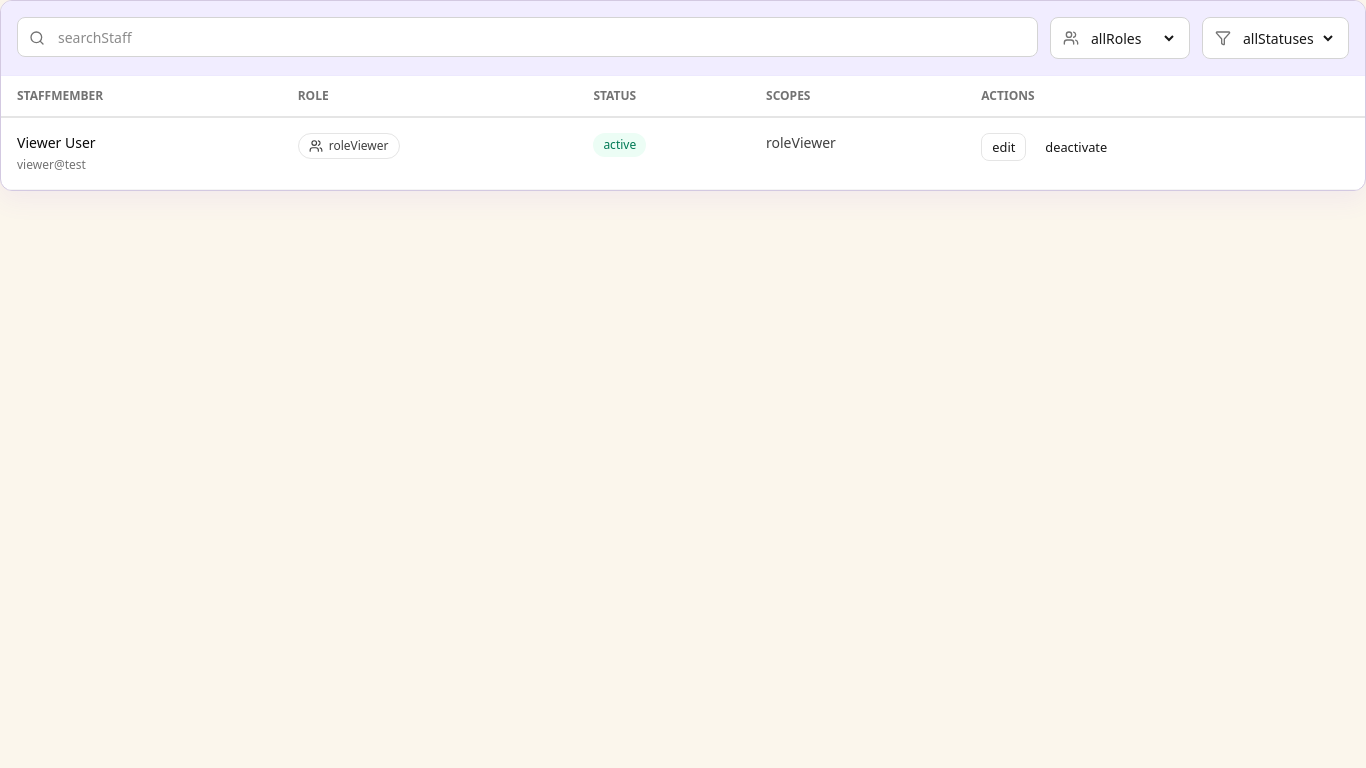
Scenario: admin staff role permissions › hides scope controls while editing a viewer and shows them for an editor
The width and height of the screenshot is (1366, 768).
Click the button "edit": (1004, 147) top-left (981, 133), bottom-right (1026, 161)
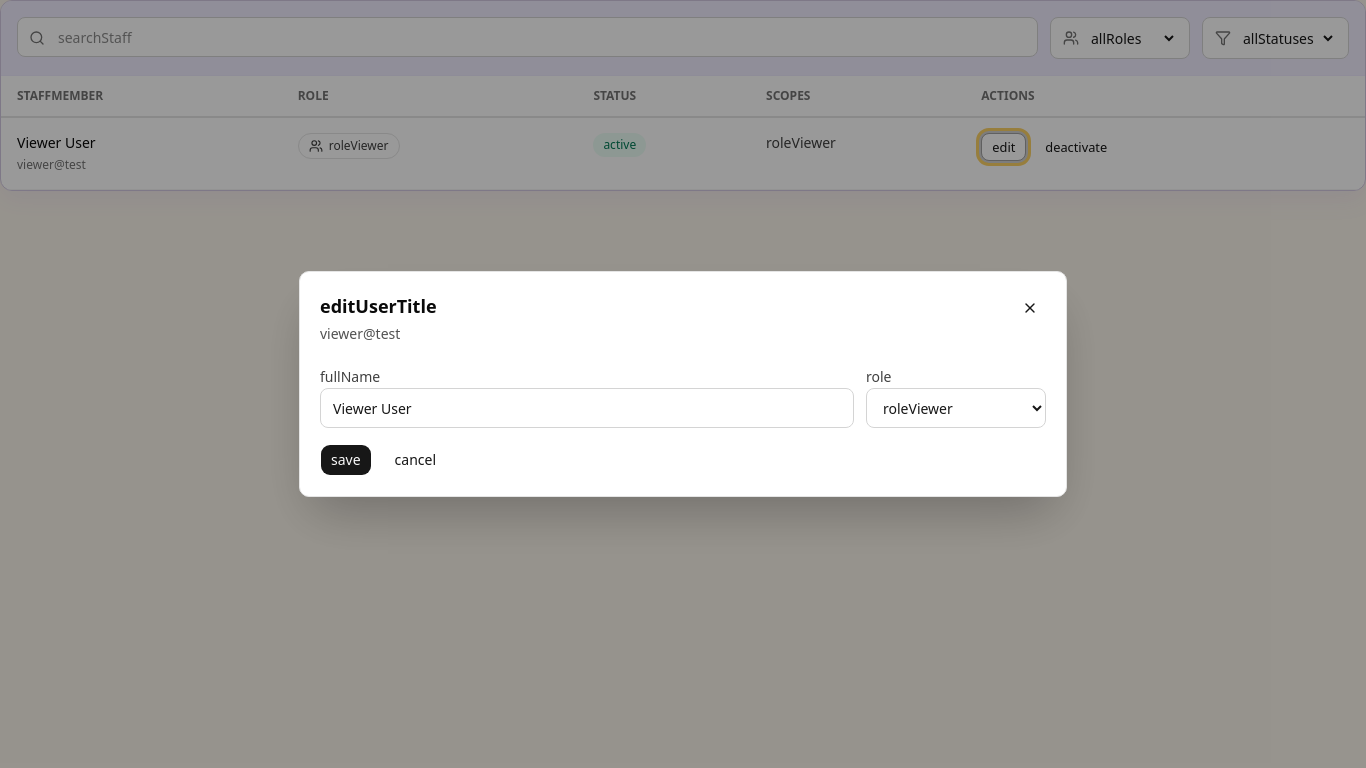
Expected: the text "gradeScopes" is not shown
Expected: the text "eventTypeScopes" is not shown
Select "roleEditor" in the dropdown labelled "role": (956, 408) top-left (866, 388), bottom-right (1046, 428)
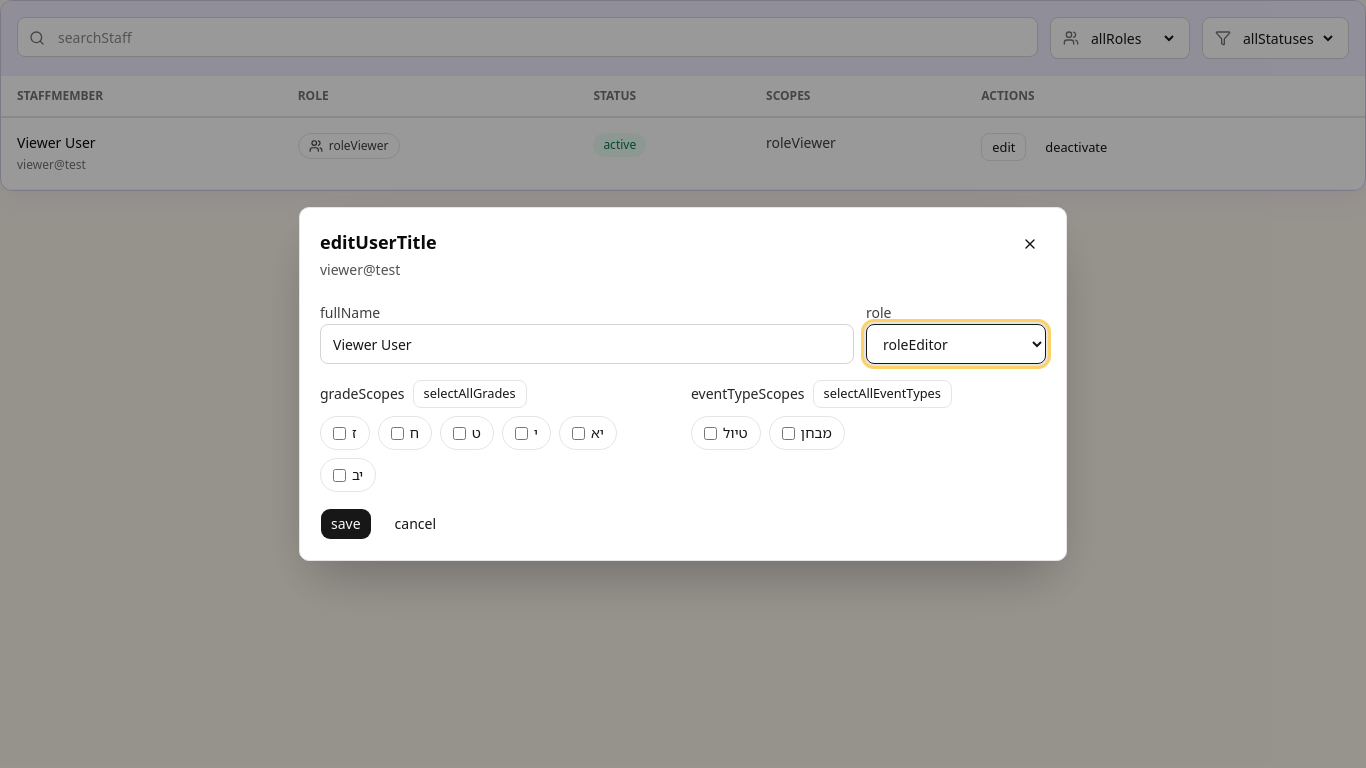
Now the text "gradeScopes" is shown, box top-left (320, 384), bottom-right (405, 404)
Now the text "eventTypeScopes" is shown, box top-left (691, 384), bottom-right (805, 404)
Select "roleViewer" in the dropdown labelled "role": (956, 344) top-left (866, 324), bottom-right (1046, 364)
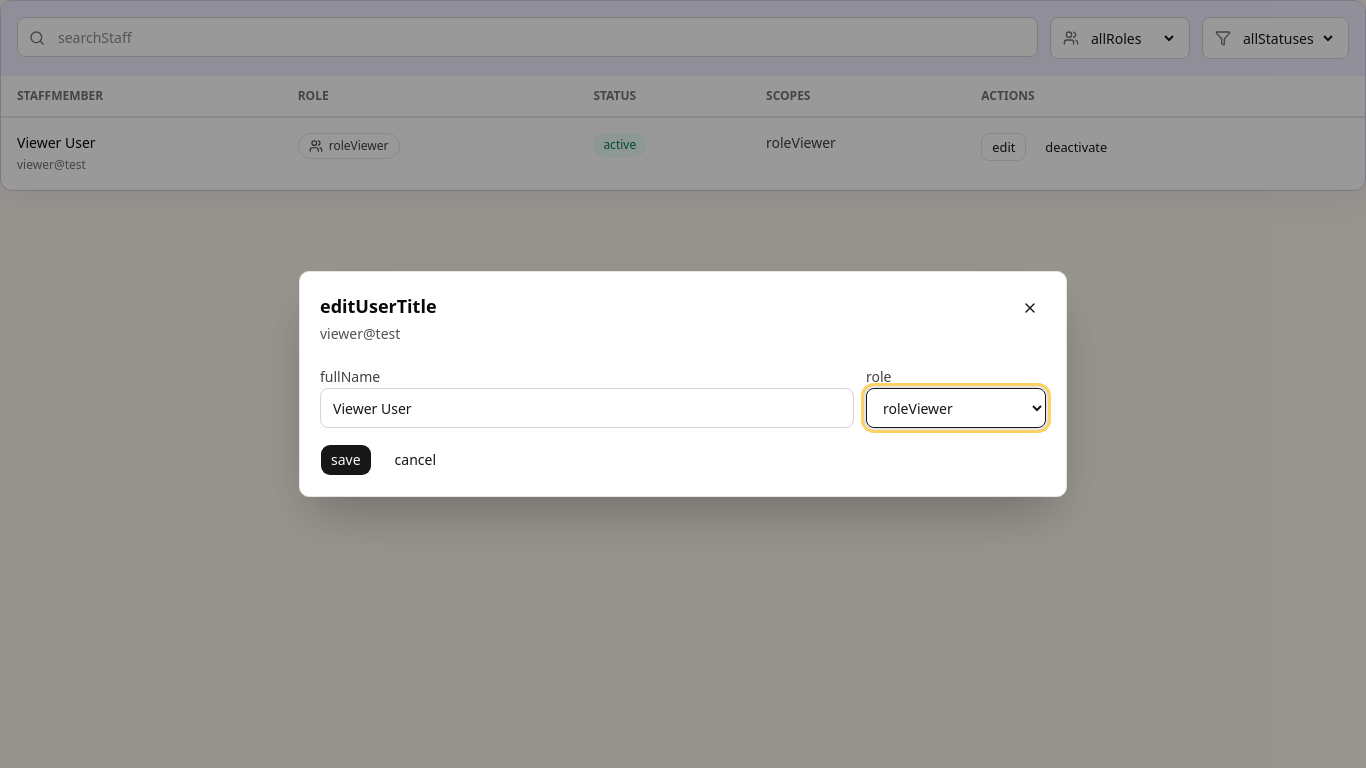
Now the text "gradeScopes" is gone
Now the text "eventTypeScopes" is gone
